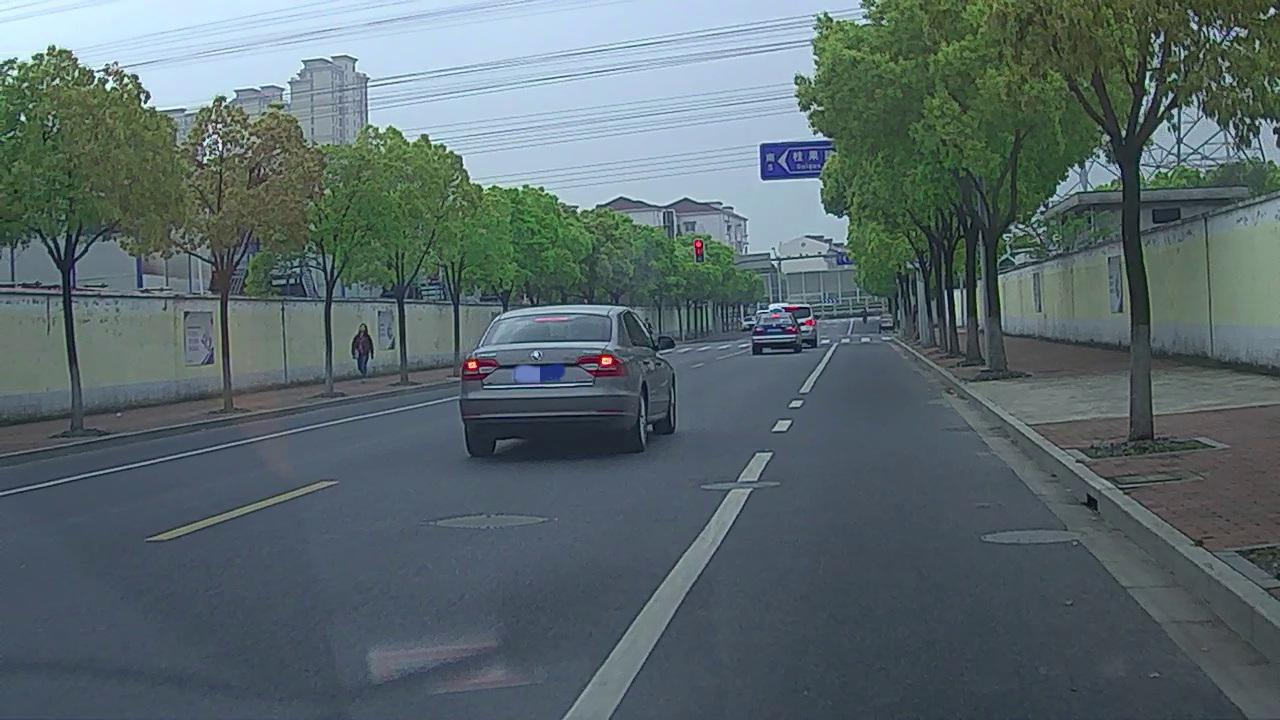traffic_light: (694, 240, 704, 264)
